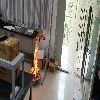fire: (30, 34, 40, 78)
